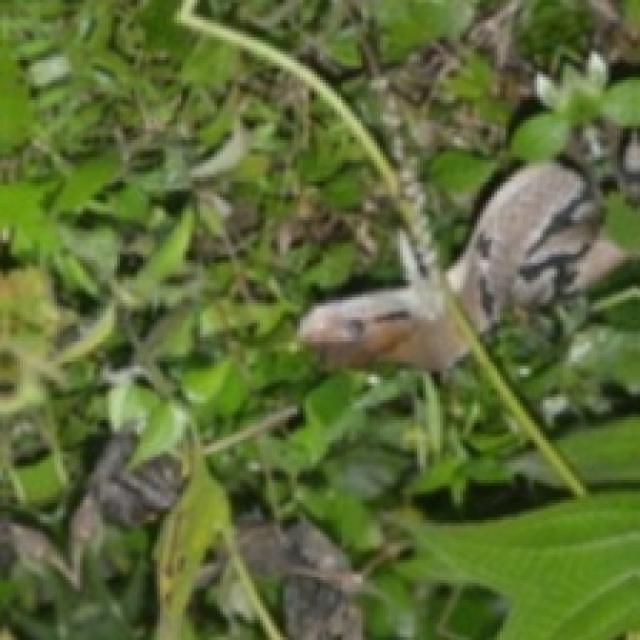dog-toothed cat snake: (446, 163, 620, 329), (300, 280, 466, 369)
